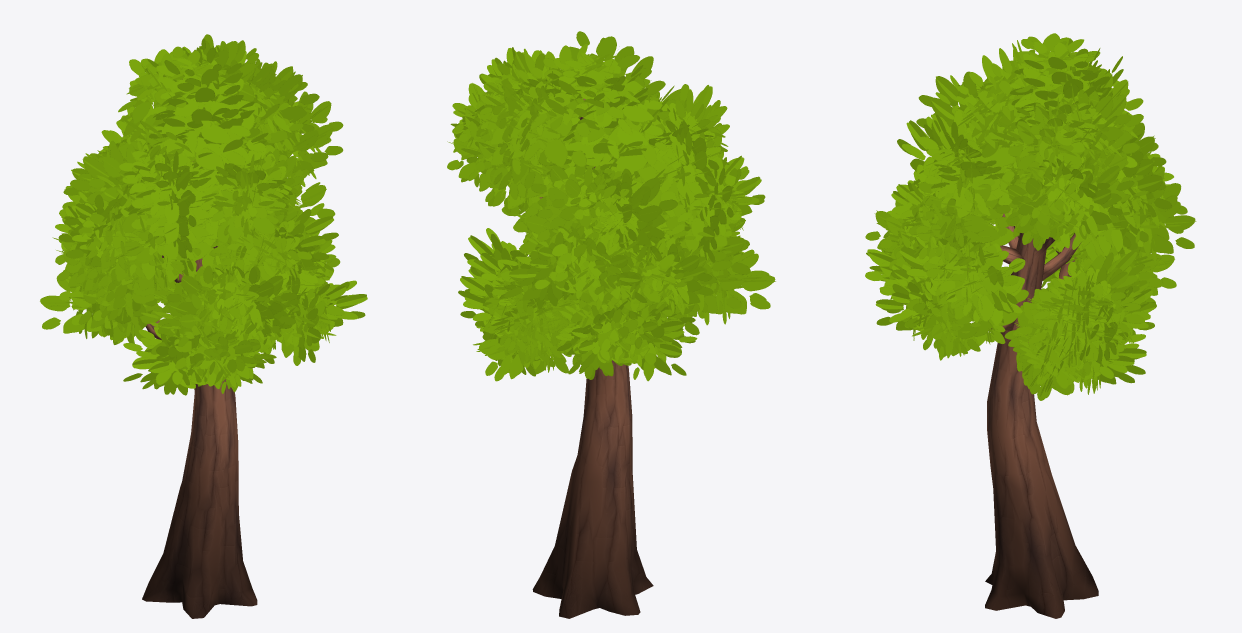
File: CommonTree_1.glb
3 renders of one model, left to right at view 1: azimuth 30°, elevation 25°; view 2: azimuth 150°, elevation 25°; view 3: azimuth 270°, elevation 25°, orthographic. The views are drawn at different scales.
Size of the model in its own units: 4.31 by 7.26 by 4.58.
2 materials, 2 textured.
